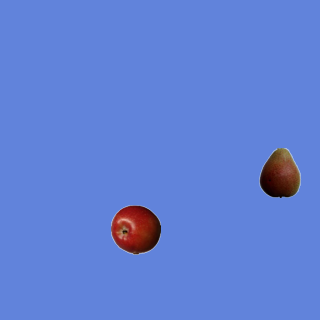Apple Braeburn: (110, 204, 160, 254)
Pear Forelle: (254, 147, 304, 197)
